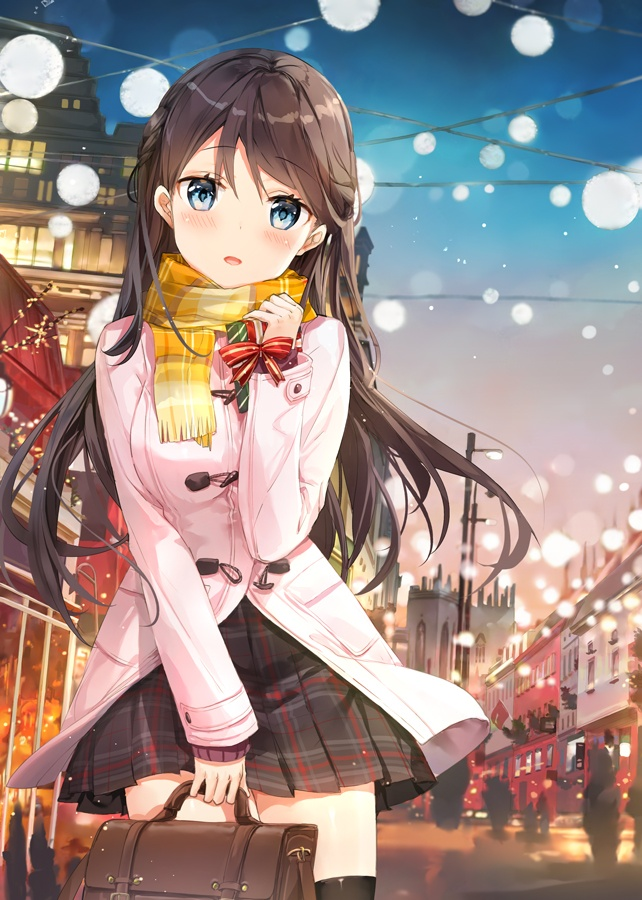纸片人正脸: (125, 39, 362, 293)
